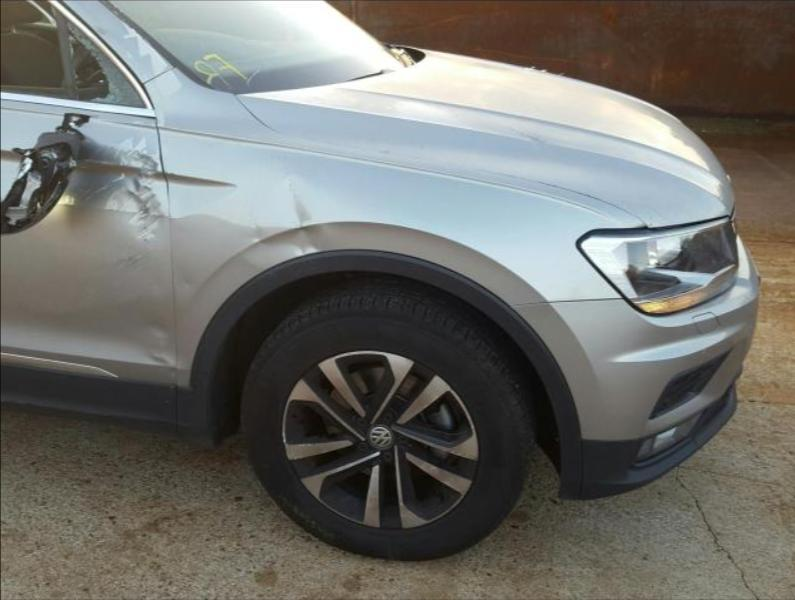Broken part: (1, 110, 89, 232)
Cracked: (1, 1, 146, 107)
Dent: (80, 143, 161, 248), (253, 191, 316, 256), (142, 323, 178, 382), (161, 212, 255, 231), (184, 282, 191, 289)
Scratch: (0, 150, 237, 187), (111, 247, 144, 265), (129, 259, 151, 272), (124, 256, 145, 267)
